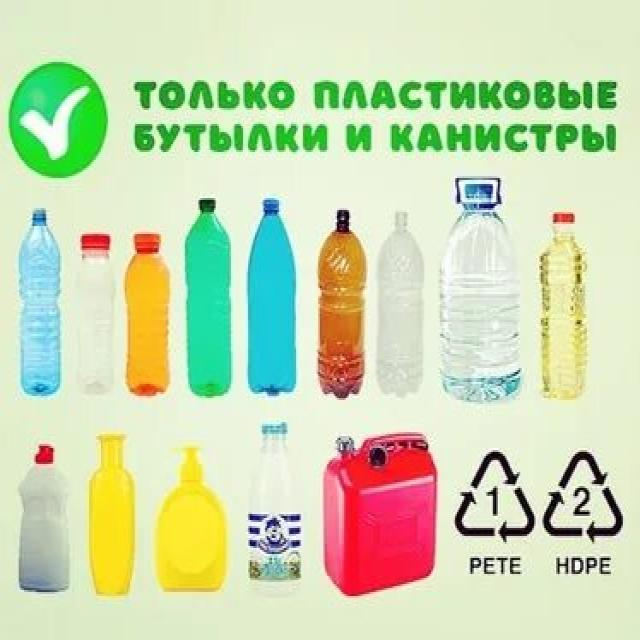blue: (17, 222, 64, 393)
brown: (317, 217, 365, 400)
green: (187, 210, 232, 397)
